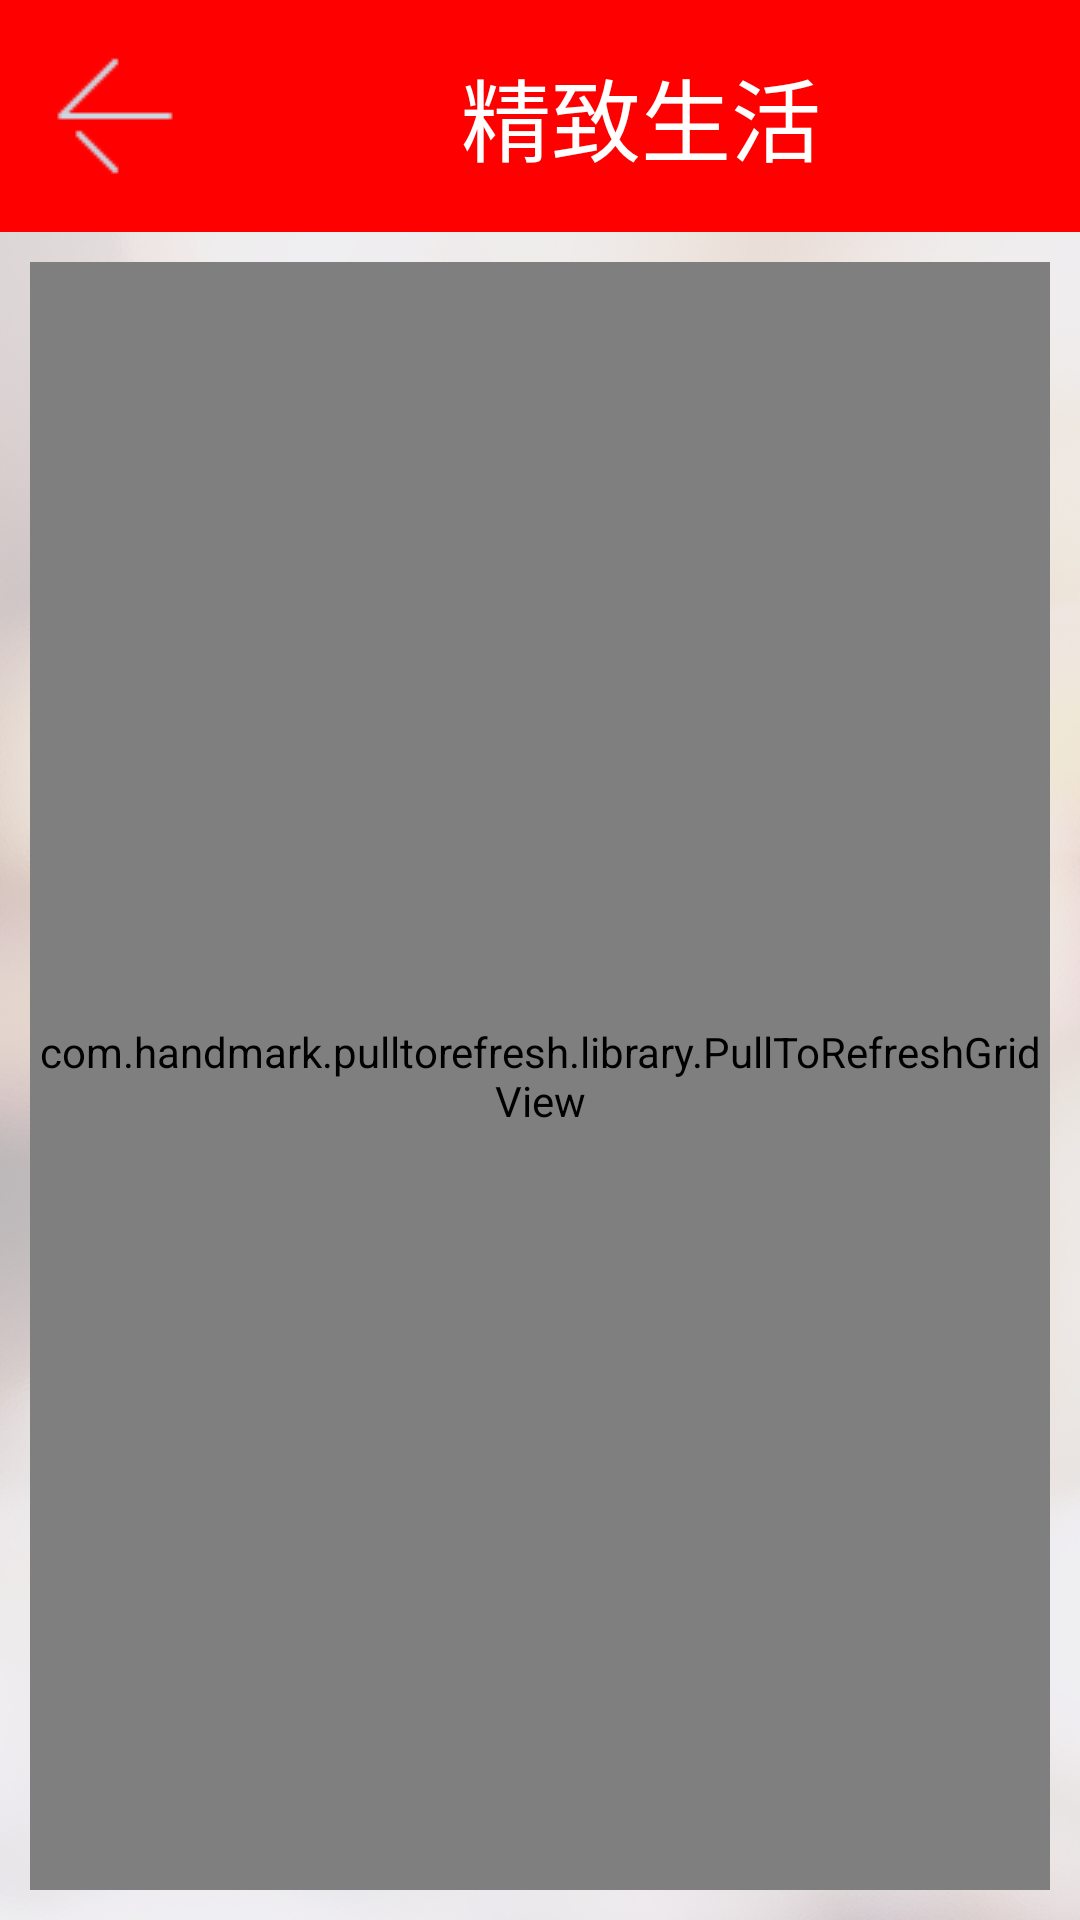

Locate icon controls on the screen. Image size 1080*1920, boxes as (x1, y1, x2, y2).
back on: (57, 58, 173, 174)
